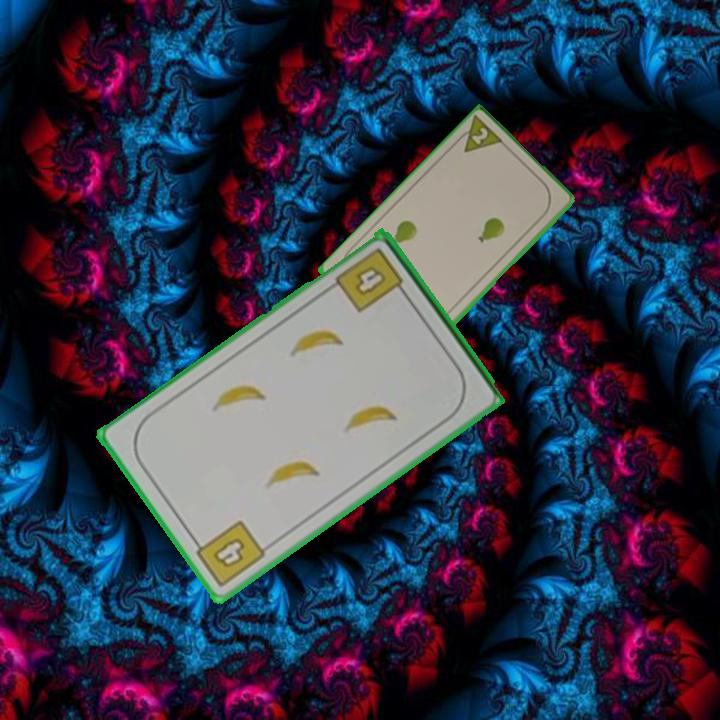2p: (451, 113, 507, 156)
4b: (188, 516, 269, 591), (332, 244, 410, 316)
